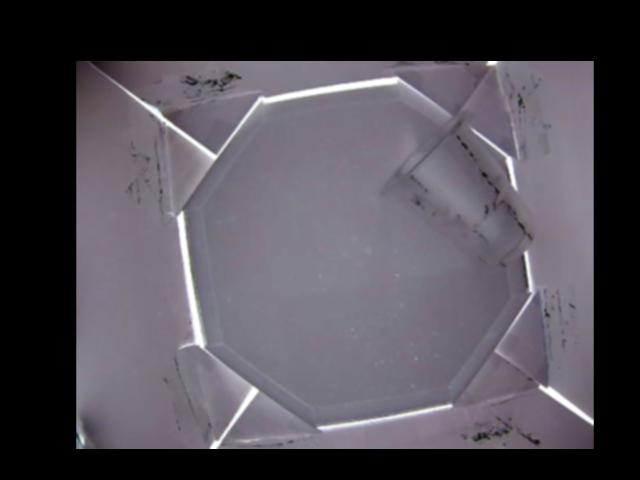Cup: (381, 110, 539, 267)
